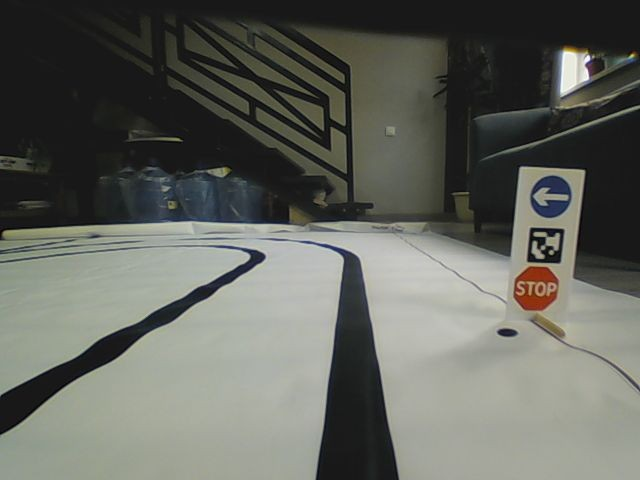Stop: (510, 264, 561, 313)
